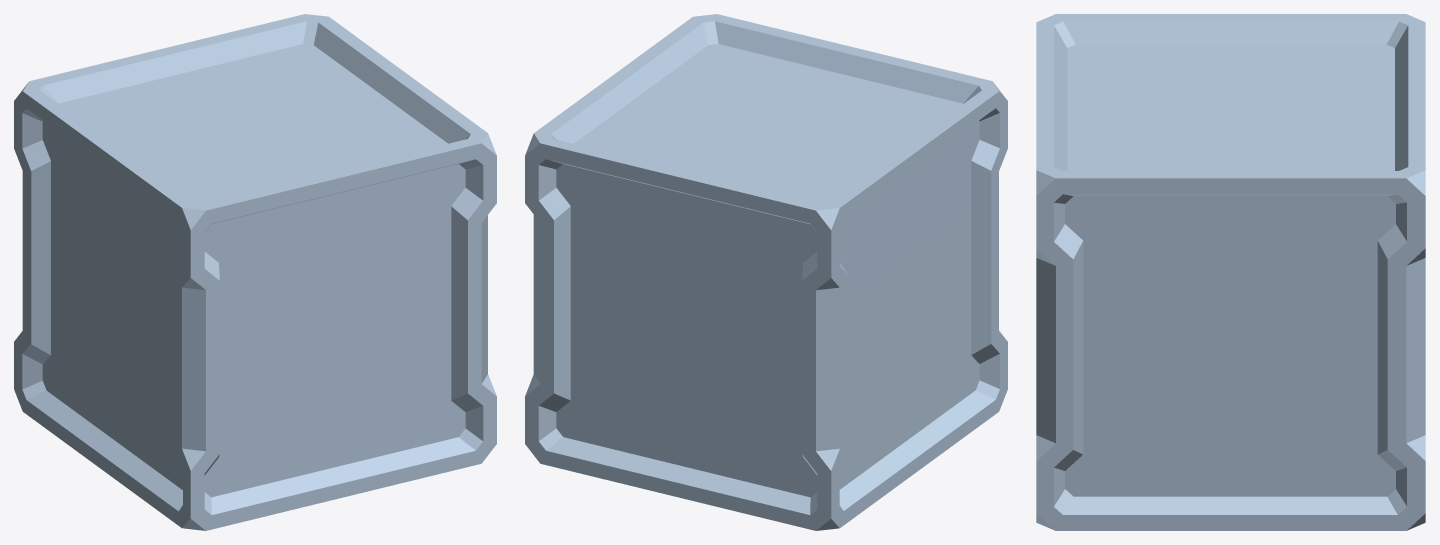
3 renders of one model, left to right at view 1: azimuth 30°, elevation 25°; view 2: azimuth 150°, elevation 25°; view 3: azimuth 270°, elevation 25°, orthographic. The views are drawn at different scales.
Parts seen in each view (by area): view 1: Cube.009; view 2: Cube.009; view 3: Cube.009.
Part boxes in pixels (x1,y1,x2,y2): Cube.009: [14, 14, 496, 530]; Cube.009: [525, 14, 1007, 530]; Cube.009: [1036, 14, 1425, 530].
Bounding box in the file's own units: 100 × 100 × 100.
